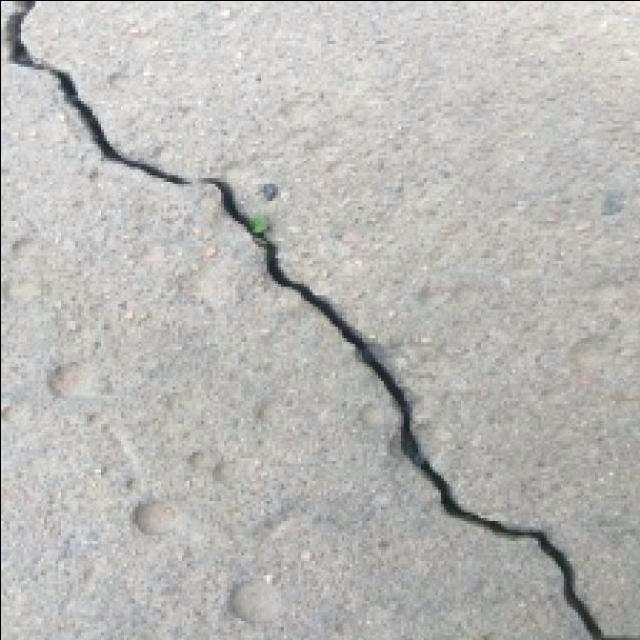SurfaceCrack: (2, 4, 594, 640)
